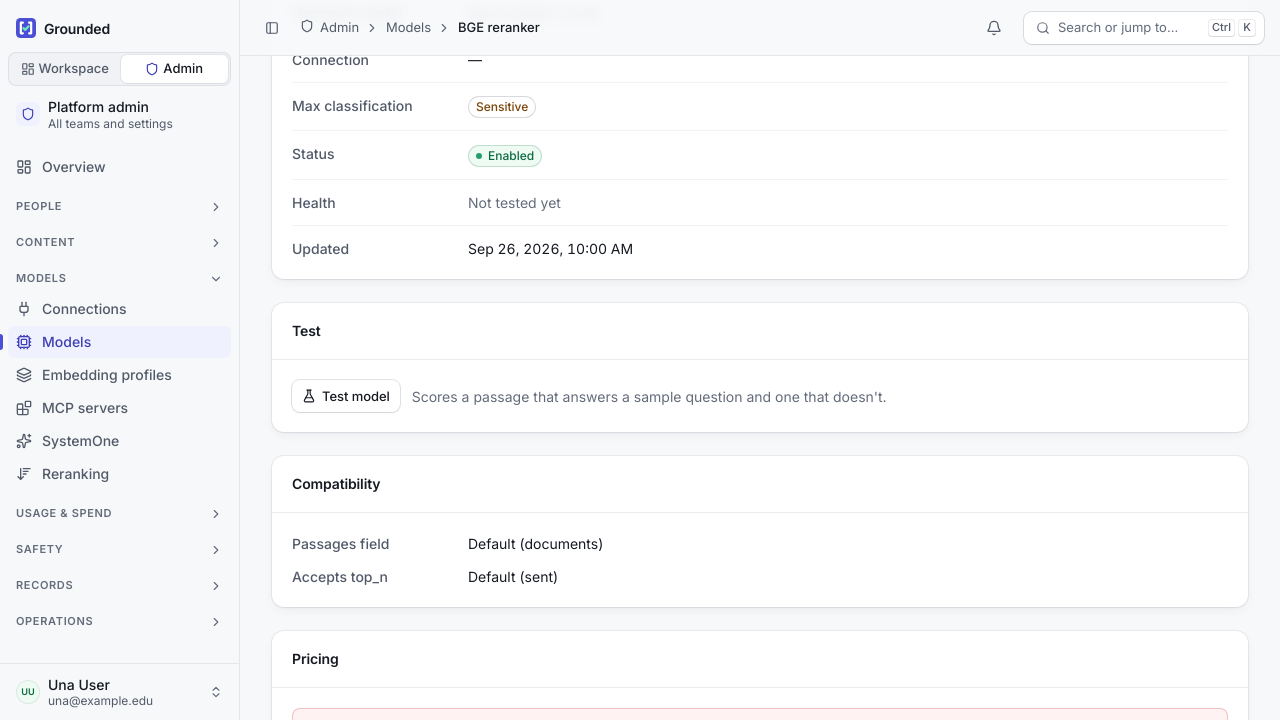
Scenario: Admin → Models: rerank models › tests a rerank model in place
This screenshot has width=1280, height=720.
(page scrolled)
Expected: the text "Scores a passage that answers a sample question and one that doesn't." is shown, [412,386,887,407]
Click the button "Test model" at (346,396), box [292,380,400,412]
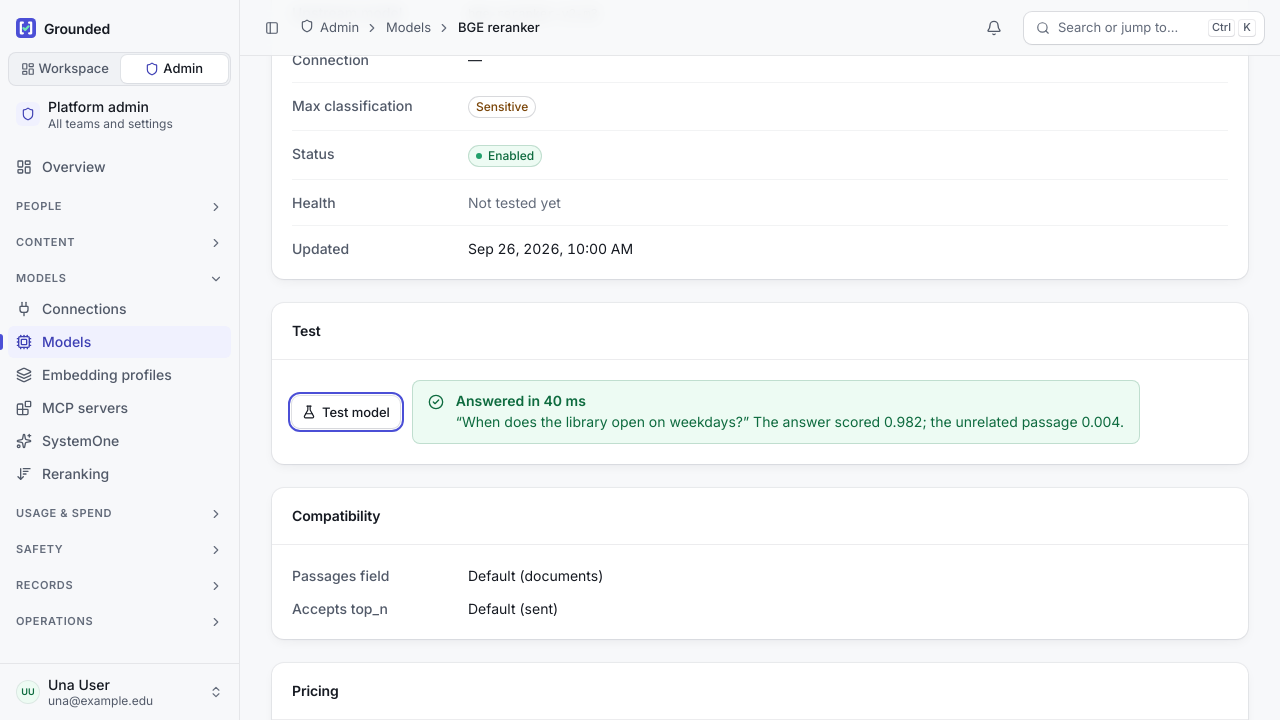
Now the text "The answer scored 0.982; the unrelated passage 0.004." is shown, box [456,413,1124,430]
